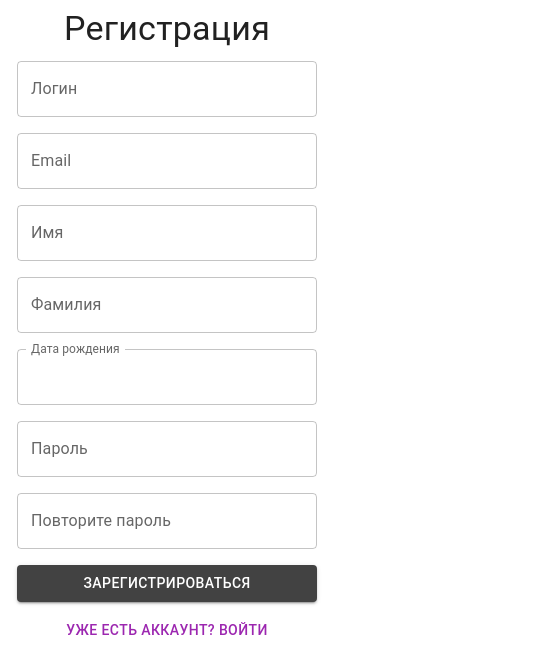
Scenario: Register Page › the registration button is blocked during the download
The width and height of the screenshot is (545, 652).
In the field labelled "Логин": coordinates (167, 89) top-left (17, 59), bottom-right (317, 119), type "loadinguser"
In the field labelled "Email": coordinates (167, 161) top-left (17, 131), bottom-right (317, 191), type "loading@example.com"
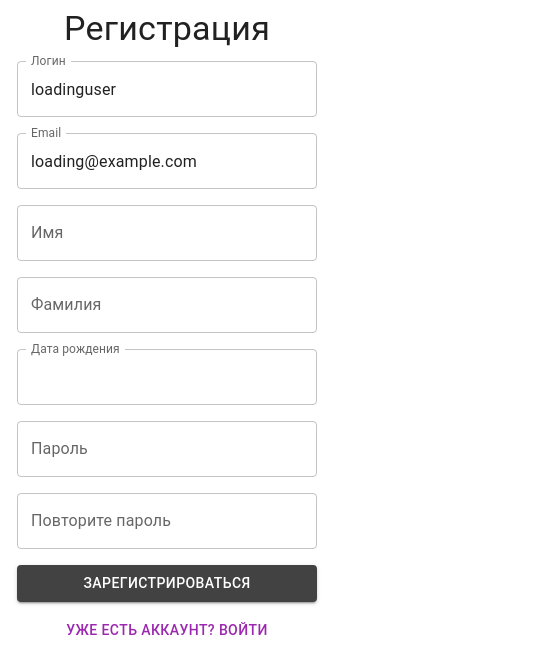
In the field labelled "Имя": coordinates (167, 233) top-left (17, 203), bottom-right (317, 263), type "Имя"
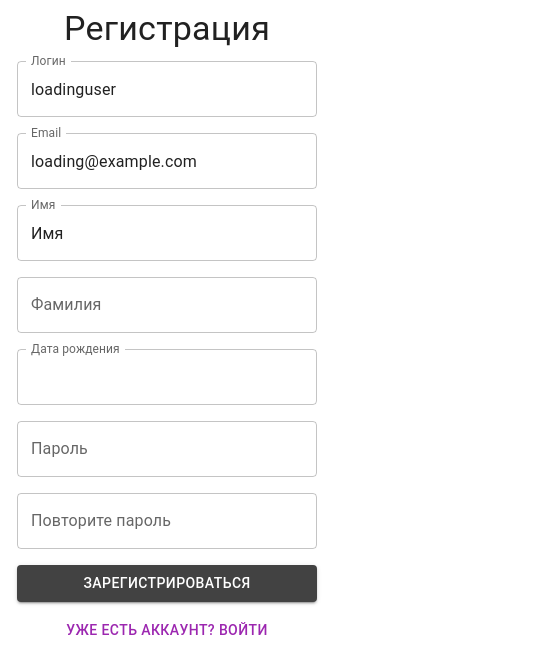
In the field labelled "Фамилия": coordinates (167, 305) top-left (17, 275), bottom-right (317, 335), type "Фамилия"
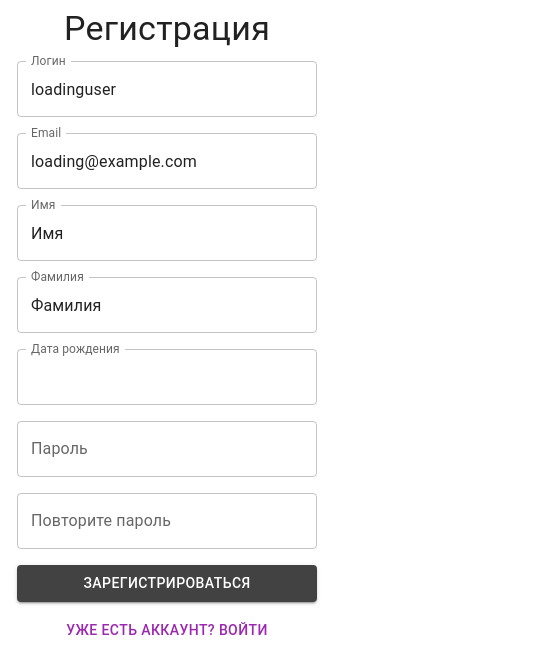
In the password field labelled "Пароль": coordinates (167, 449) top-left (17, 419), bottom-right (317, 479), type "password123"
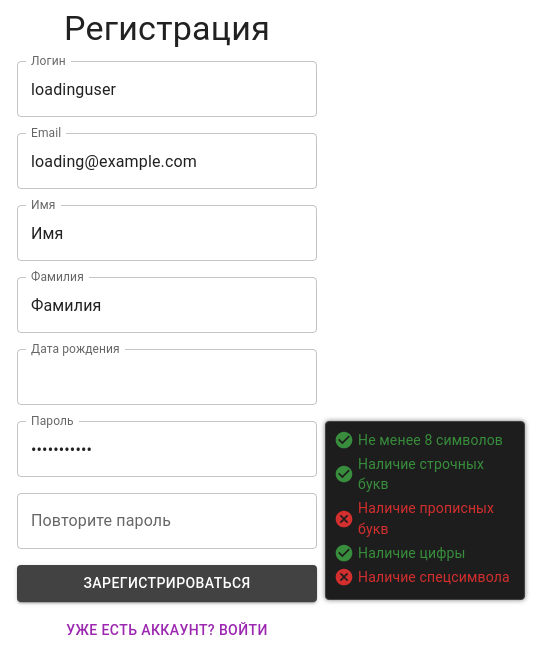
In the password field labelled "Повторите пароль": coordinates (167, 521) top-left (17, 491), bottom-right (317, 551), type "password123"
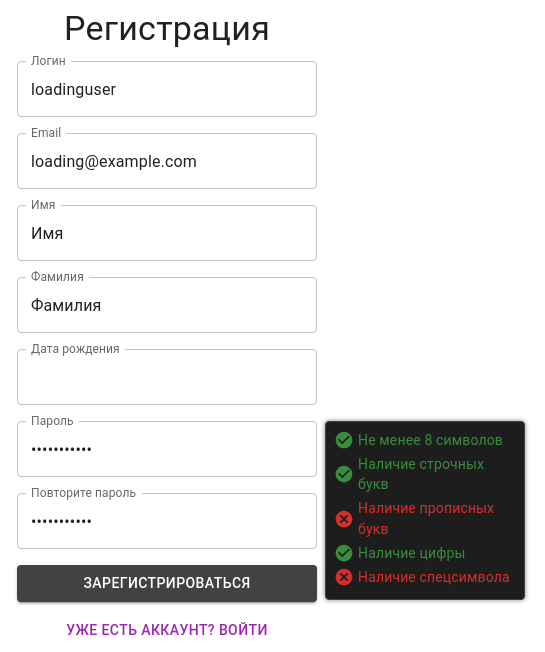
Click the button with test id "register-submit": coordinates (167, 584) top-left (17, 565), bottom-right (317, 602)
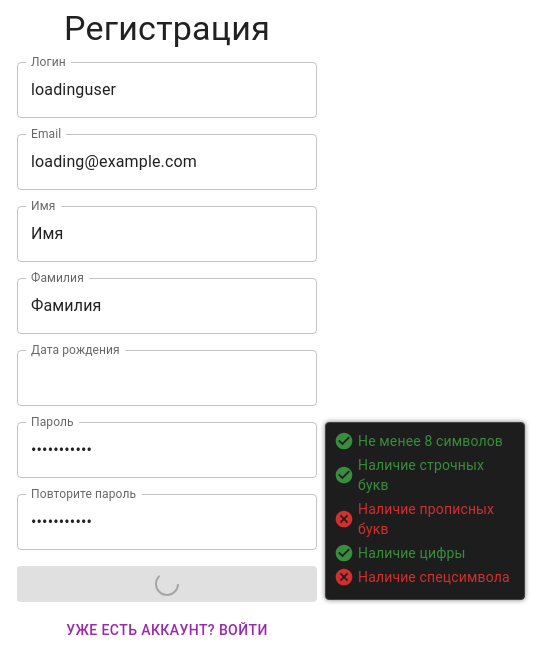
Check: the button with test id "register-submit" is disabled, box top-left (17, 566), bottom-right (317, 602)
Check: the progress indicator is shown, box top-left (155, 572), bottom-right (179, 596)
